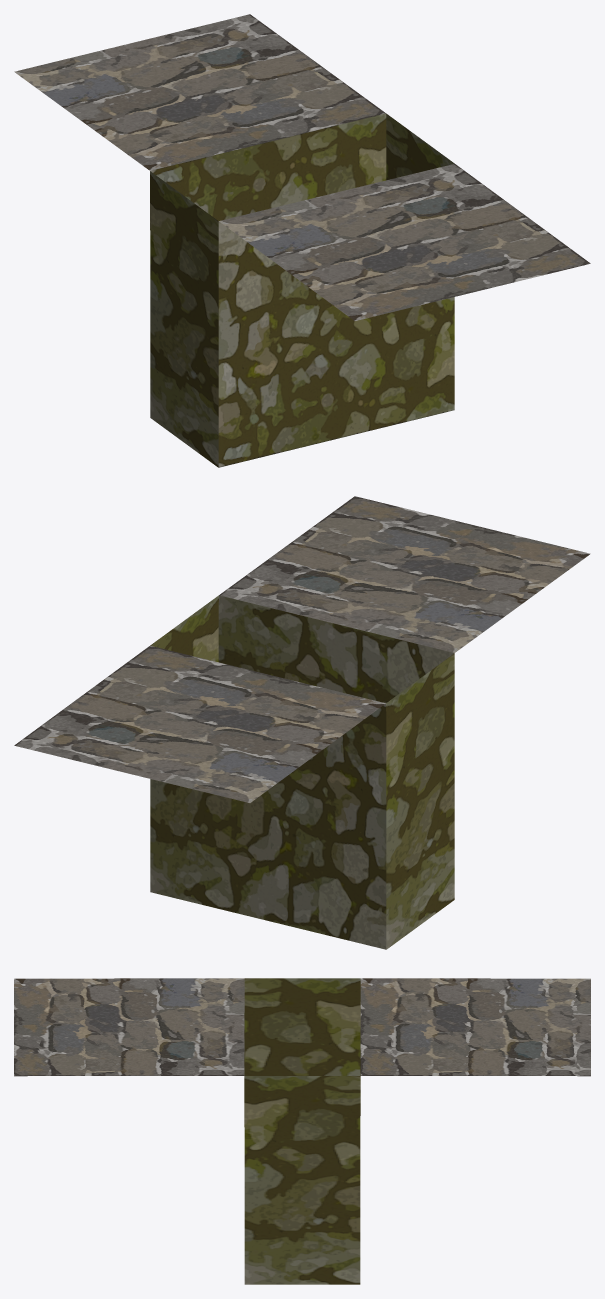
File: Pit.fbx
3 renders of one model, top to bottom at view 1: azimuth 30°, elevation 25°; view 2: azimuth 150°, elevation 25°; view 3: azimuth 270°, elevation 25°, orthographic. The views are drawn at different scales.
Visible parts, largest first — view 1: Pit; view 2: Pit; view 3: Pit.
Part boxes in pixels (bbox=[...]): Pit: bbox=[14, 14, 590, 467]; Pit: bbox=[14, 496, 590, 949]; Pit: bbox=[14, 978, 590, 1284].
Size of the model in its own units: 2 by 2 by 5.
